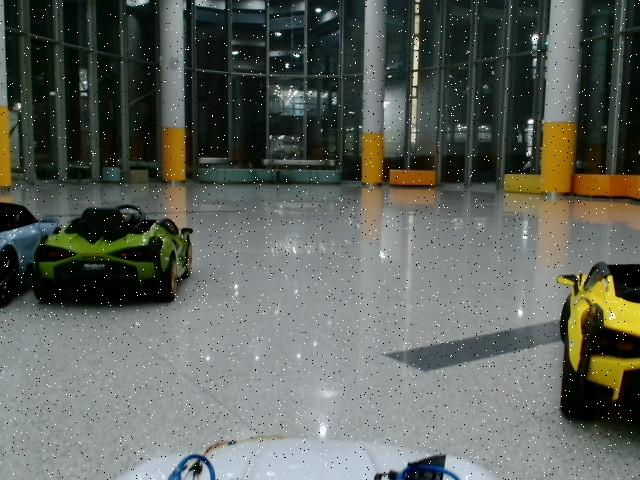car: (34, 205, 195, 302), (557, 261, 640, 421), (1, 201, 60, 309)
